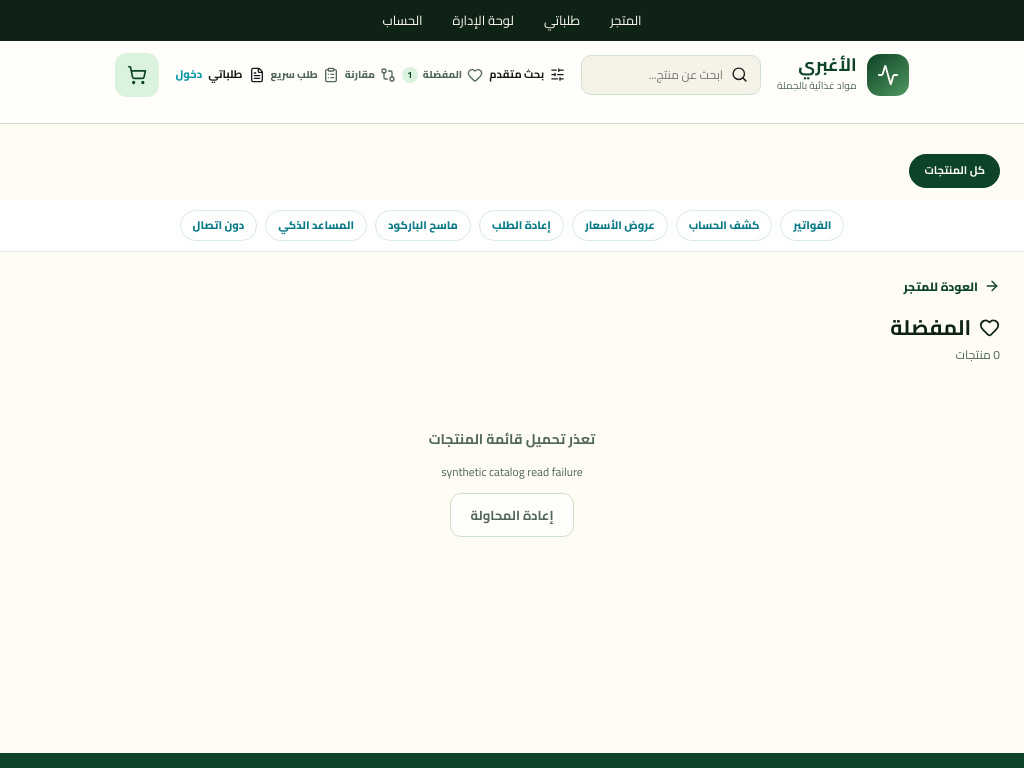
Scenario: wishlist real route acceptance › shows the catalog failure on the real wishlist route and recovers after the visible retry action
This screenshot has width=1024, height=768.
Expected: the message "تعذر تحميل قائمة المنتجات synthetic catalog read failure إعادة المحاولة" is shown, [429,426,595,537]
Expected: the text "صنف تجريبي للمفضلة" is not shown
Click the button "إعادة المحاولة": (512, 515) [450,493,574,537]
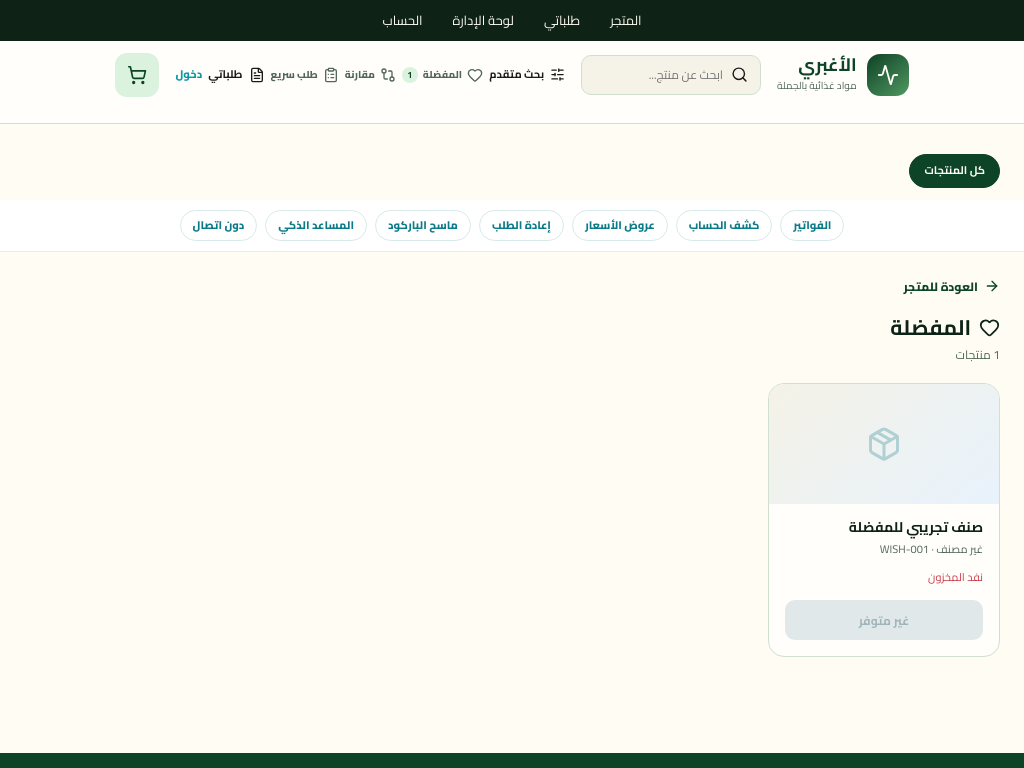
Expected: the text "صنف تجريبي للمفضلة" is shown, [849,514,983,540]
Expected: the message "تعذر تحميل قائمة المنتجات synthetic catalog read failure إعادة المحاولة" is gone
Expected: the text "1 منتجات" is shown, [956,343,1000,366]
